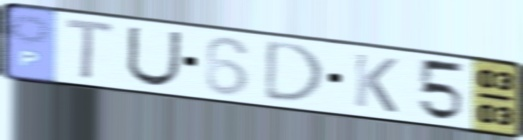5: (414, 55, 467, 124)
6: (201, 35, 256, 99)
D: (261, 38, 329, 105)
K: (351, 51, 401, 116)
T: (62, 15, 119, 83)
U: (123, 24, 186, 88)
